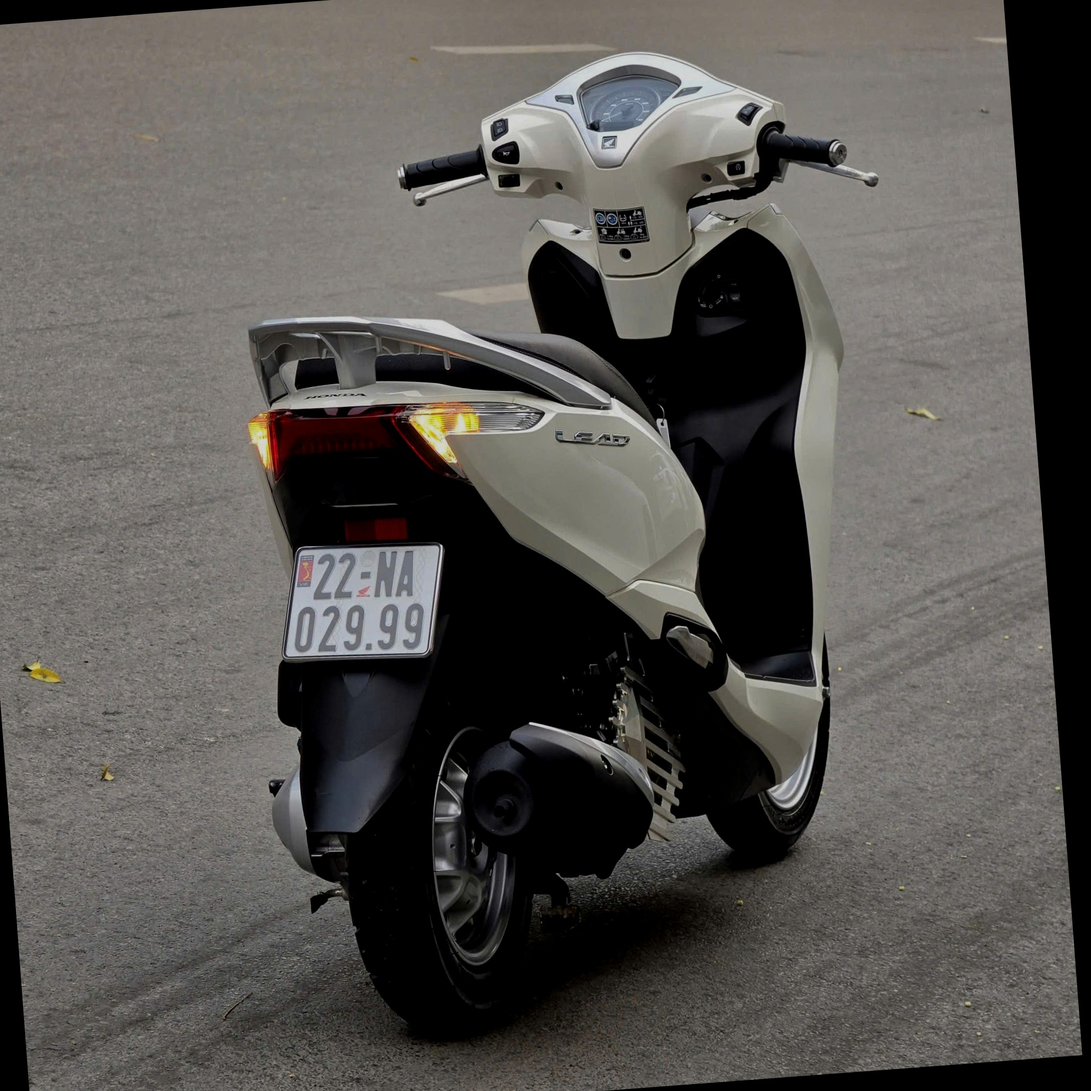Bien-so: (318, 549, 499, 663)
